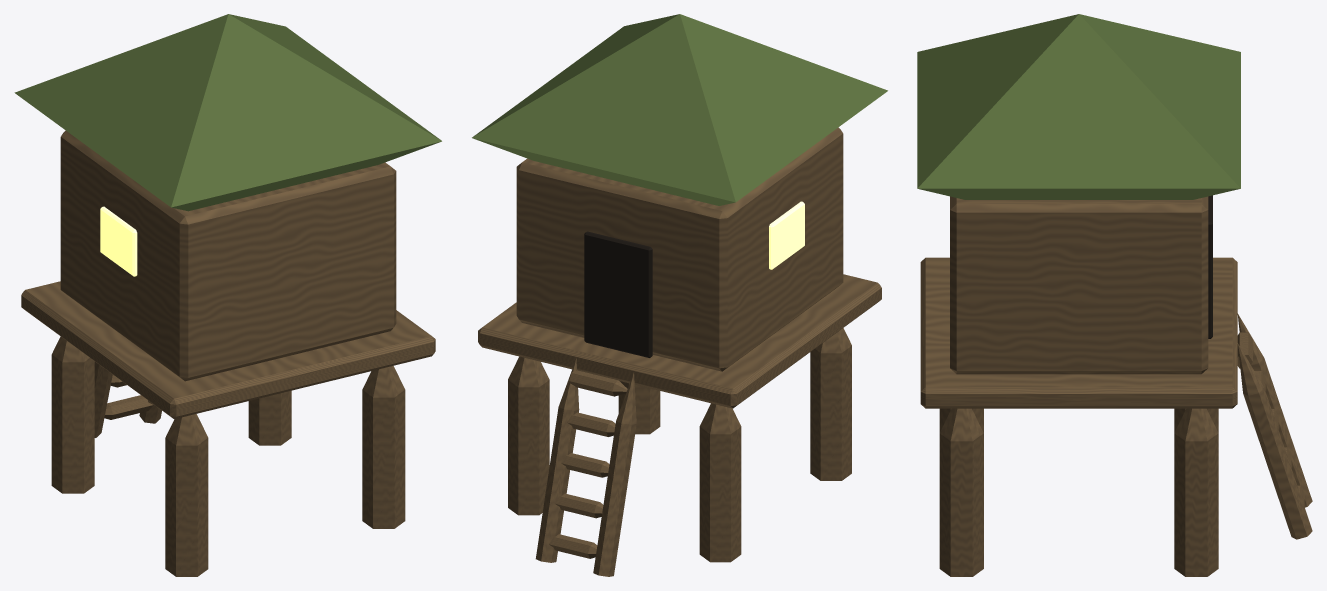
Rendered from StiltHut.glb.
3 renders of one model, left to right at view 1: azimuth 30°, elevation 25°; view 2: azimuth 150°, elevation 25°; view 3: azimuth 270°, elevation 25°, orthographic. The views are drawn at different scales.
Parts seen in each view (by area): view 1: StiltHut, StiltHut_Glow; view 2: StiltHut, StiltHut_Glow; view 3: StiltHut.
Part boxes in pixels (left/top/right/bottom): StiltHut: left=14, top=14, right=441, bottom=576; StiltHut_Glow: left=100, top=206, right=137, bottom=276; StiltHut: left=472, top=14, right=887, bottom=576; StiltHut_Glow: left=769, top=201, right=804, bottom=269; StiltHut: left=917, top=14, right=1312, bottom=576.
Size of the model in its own units: 2.76 by 4.78 by 3.37.
Materials: 2 (1 with a texture image).
